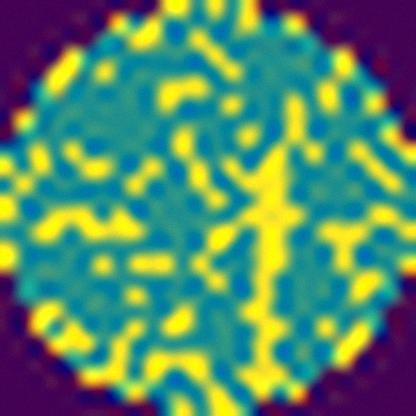Scratch: (197, 123, 325, 405)
